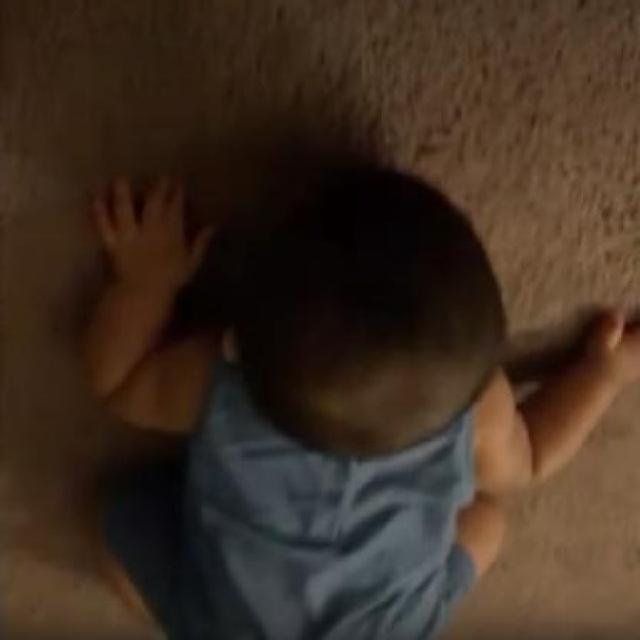baby: (75, 161, 638, 640)
